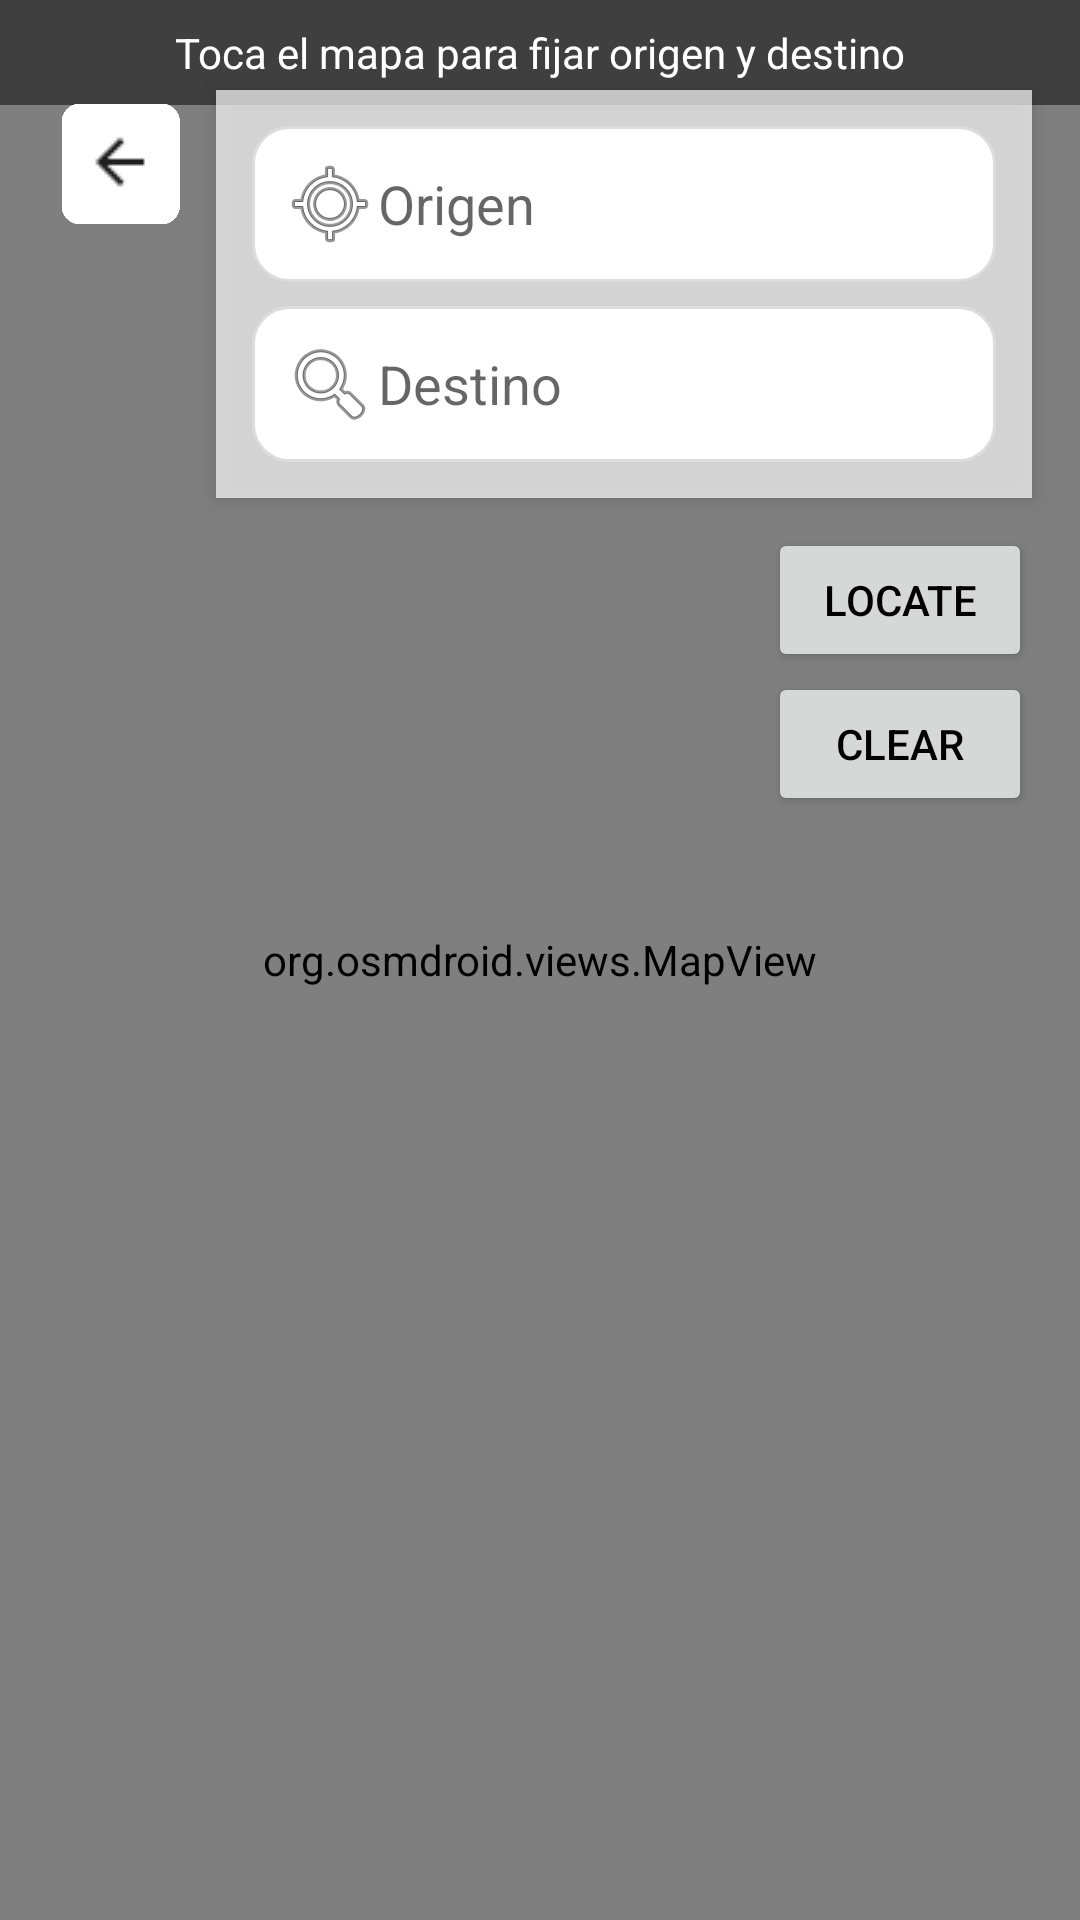

Point at icon controls on the screen. Image size 1080×1920, points as point (x, y).
Volver atrás: point (120, 157)
